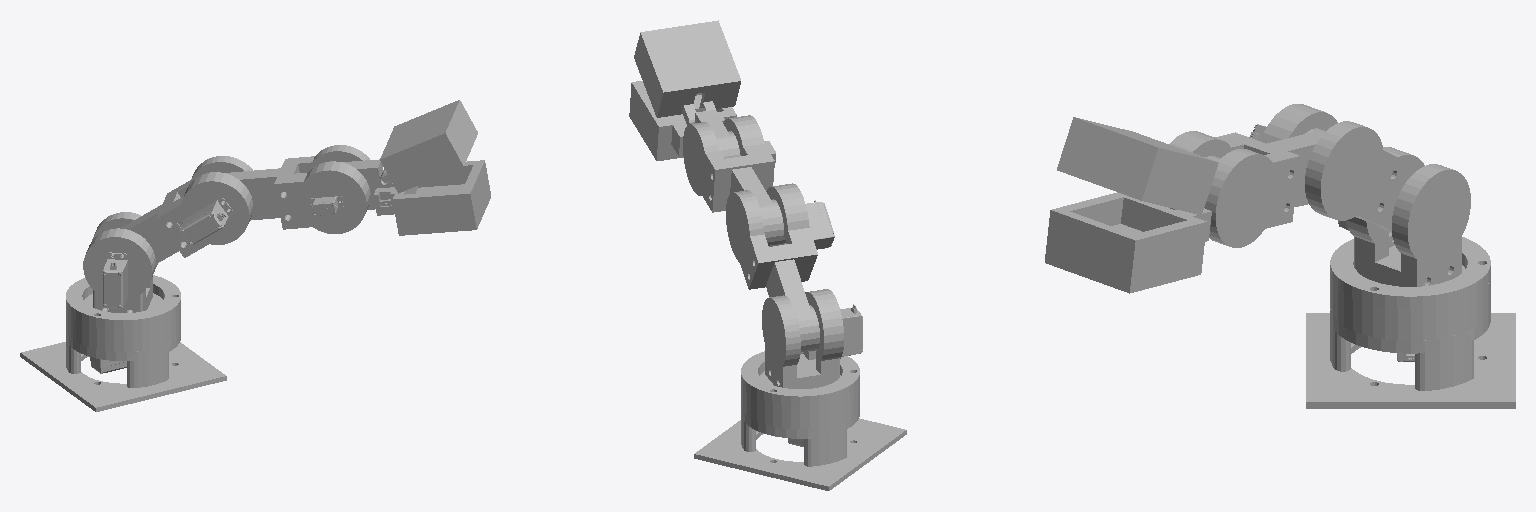
URDF robot description (Project):
<?xml version="1.0" encoding="utf-8" ?>
<!-- This URDF was automatically created by SolidWorks to URDF Exporter! Originally created by [author] ([email redacted]) 
     Commit Version: 1.6.0-4-g7f85cfe  Build Version: 1.6.7995.38578
     For more information, please see http://wiki.ros.org/sw_urdf_exporter -->
<robot name="Project">
    <link name="world" />
    <joint name="virtual_joint" type="fixed">
        <parent link="world" />
        <child link="base_link" />
    </joint>
    <link name="base_link">
        
<inertial>
            <origin xyz="0.062583 0.062483 0.13321" rpy="0 0 0" />
            <mass value="0.49045" />
            <inertia ixx="0.00075934" ixy="-2.6667E-06" ixz="-2.3889E-08" iyy="0.0013344" iyz="-2.6966E-15" izz="0.00075873" />
        </inertial>

        <visual>
            <origin xyz="0 0 0" rpy="0 0 0" />
            <geometry>
                <mesh filename="package://Project/meshes/base_link.STL" />
            </geometry>
            <material name="">
                <color rgba="0.75294 0.75294 0.75294 1" />
            </material>
        </visual>
        <collision>
            <origin xyz="0 0 0" rpy="0 0 0" />
            <geometry>
                <mesh filename="package://Project/meshes/base_link.STL" />
            </geometry>
        </collision>
    </link>
    <link name="Link1">
        
<inertial>
            <origin xyz="-0.0058004 0.043843 0.0069345" rpy="0 0 0" />
            <mass value="0.17436" />
            <inertia ixx="0.000183" ixy="1.9346E-05" ixz="-2.9916E-06" iyy="0.00011655" iyz="-2.3181E-05" izz="0.0001841" />
        </inertial>

        <visual>
            <origin xyz="0 0 0" rpy="0 0 0" />
            <geometry>
                <mesh filename="package://Project/meshes/Link1.STL" />
            </geometry>
            <material name="">
                <color rgba="0.75294 0.75294 0.75294 1" />
            </material>
        </visual>
        <collision>
            <origin xyz="0 0 0" rpy="0 0 0" />
            <geometry>
                <mesh filename="package://Project/meshes/Link1.STL" />
            </geometry>
        </collision>
    </link>
    <joint name="joint1" type="revolute">
        <origin xyz="0.063039 -0.13322 0.069861" rpy="1.5708 0 -0.010974" />
        <parent link="base_link" />
        <child link="Link1" />
        <axis xyz="0 1 0" />
        <limit lower="-1.57" upper="1.57" effort="1000" velocity="10" />
    </joint>
    <link name="link2">
        
<inertial>
            <origin xyz="0.051494401274804 0.0280604795459832 0.0547249223492152" rpy="0 0 0" />
            <mass value="0.150087546182137" />
            <inertia ixx="0.000204815122201082" ixy="-4.35606900573083E-05" ixz="-0.000104126628840069" iyy="0.000242460808468939" iyz="-5.74021223085673E-05" izz="0.000155330262210845" />
        </inertial>

        <visual>
            <origin xyz="0 0 0" rpy="0 0 0" />
            <geometry>
                <mesh filename="package://Project/meshes/link2.STL" />
            </geometry>
            <material name="">
                <color rgba="0.752941176470588 0.752941176470588 0.752941176470588 1" />
            </material>
        </visual>
        <collision>
            <origin xyz="0 0 0" rpy="0 0 0" />
            <geometry>
                <mesh filename="package://Project/meshes/link2.STL" />
            </geometry>
        </collision>
    </link>
    <joint name="joint2" type="revolute">
        <origin xyz="0 0.0795 0" rpy="-0.16182 0.01582 0.19448" />
        <parent link="Link1" />
        <child link="link2" />
        <axis xyz="0.64034 0 -0.76809" />
        <limit lower="-1.57" upper="1.57" effort="1000" velocity="10" />
    </joint>
    <link name="link3">
        
<inertial>
            <origin xyz="-0.00476318038871001 0.074849446227935 -0.00203016947462037" rpy="0 0 0" />
            <mass value="0.130303869784293" />
            <inertia ixx="0.00026871973384545" ixy="4.19854801617947E-05" ixz="-5.2338316445209E-06" iyy="5.31314299703242E-05" iyz="-2.81345733913792E-05" izz="0.000277166259506769" />
        </inertial>

        <visual>
            <origin xyz="0 0 0" rpy="0 0 0" />
            <geometry>
                <mesh filename="package://Project/meshes/link3.STL" />
            </geometry>
            <material name="">
                <color rgba="0.752941176470588 0.752941176470588 0.752941176470588 1" />
            </material>
        </visual>
        <collision>
            <origin xyz="0 0 0" rpy="0 0 0" />
            <geometry>
                <mesh filename="package://Project/meshes/link3.STL" />
            </geometry>
        </collision>
    </link>
    <joint name="joint3" type="revolute">
        <origin xyz="0.086273 0.042235 0.071924" rpy="0.87355 0.59791 -1.167" />
        <parent link="link2" />
        <child link="link3" />
        <axis xyz="0.64034 0 -0.76809" />
        <limit lower="-1.57" upper="1.57" effort="1000" velocity="10" />
    </joint>
    <link name="link4">
        
<inertial>
            <origin xyz="0.0548157398392086 -0.0273785237972813 0.0380020224325275" rpy="0 0 0" />
            <mass value="0.140077664719032" />
            <inertia ixx="0.000216463472889513" ixy="8.27665845459747E-05" ixz="-0.000111272702923855" iyy="0.000345872989141308" iyz="6.92045015616449E-05" izz="0.000256530152085106" />
        </inertial>

        <visual>
            <origin xyz="0 0 0" rpy="0 0 0" />
            <geometry>
                <mesh filename="package://Project/meshes/link4.STL" />
            </geometry>
            <material name="">
                <color rgba="0.752941176470588 0.752941176470588 0.752941176470588 1" />
            </material>
        </visual>
        <collision>
            <origin xyz="0 0 0" rpy="0 0 0" />
            <geometry>
                <mesh filename="package://Project/meshes/link4.STL" />
            </geometry>
        </collision>
    </link>
    <joint name="joint4" type="revolute">
        <origin xyz="-0.0060927 0.11974 -0.0050793" rpy="-0.89787 0.64752 1.2168" />
        <parent link="link3" />
        <child link="link4" />
        <axis xyz="0.64034 0 -0.76809" />
        <limit lower="-1.57" upper="1.57" effort="1000" velocity="10" />
    </joint>
    <link name="link5">
        
<inertial>
            <origin xyz="0.0406989665115545 0.0305863150536057 0.0260604660706744" rpy="0 0 0" />
            <mass value="0.0629406277554816" />
            <inertia ixx="5.43974028049776E-05" ixy="-7.10618358387144E-06" ixz="3.23725871457604E-06" iyy="8.29079946768035E-05" iyz="-6.03015468519842E-06" izz="5.29677790061506E-05" />
        </inertial>

        <visual>
            <origin xyz="0 0 0" rpy="0 0 0" />
            <geometry>
                <mesh filename="package://Project/meshes/link5.STL" />
            </geometry>
            <material name="">
                <color rgba="0.752941176470588 0.752941176470588 0.752941176470588 1" />
            </material>
        </visual>
        <collision>
            <origin xyz="0 0 0" rpy="0 0 0" />
            <geometry>
                <mesh filename="package://Project/meshes/link5.STL" />
            </geometry>
        </collision>
    </link>
    <joint name="joint5" type="revolute">
        <origin xyz="0.039754 0.00020207 0.033142" rpy="0.099835 0.0059943 -0.11984" />
        <parent link="link4" />
        <child link="link5" />
        <axis xyz="0.64034 0 -0.76809" />
        <limit lower="-1.57" upper="1.57" effort="1000" velocity="10" />
    </joint>
    
<transmission name="trans_joint1">
        <type>transmission_interface/SimpleTransmission</type>
        <joint name="joint1">
            <hardwareInterface>hardware_interface/PositionJointInterface</hardwareInterface>
        </joint>
        <actuator name="joint1_motor">
            <hardwareInterface>hardware_interface/PositionJointInterface</hardwareInterface>
            <mechanicalReduction>1</mechanicalReduction>
        </actuator>
    </transmission>
    <transmission name="trans_joint2">
        <type>transmission_interface/SimpleTransmission</type>
        <joint name="joint2">
            <hardwareInterface>hardware_interface/PositionJointInterface</hardwareInterface>
        </joint>
        <actuator name="joint2_motor">
            <hardwareInterface>hardware_interface/PositionJointInterface</hardwareInterface>
            <mechanicalReduction>1</mechanicalReduction>
        </actuator>
    </transmission>
    <transmission name="trans_joint3">
        <type>transmission_interface/SimpleTransmission</type>
        <joint name="joint3">
            <hardwareInterface>hardware_interface/PositionJointInterface</hardwareInterface>
        </joint>
        <actuator name="joint3_motor">
            <hardwareInterface>hardware_interface/PositionJointInterface</hardwareInterface>
            <mechanicalReduction>1</mechanicalReduction>
        </actuator>
    </transmission>
    <transmission name="trans_joint4">
        <type>transmission_interface/SimpleTransmission</type>
        <joint name="joint4">
            <hardwareInterface>hardware_interface/PositionJointInterface</hardwareInterface>
        </joint>
        <actuator name="joint4_motor">
            <hardwareInterface>hardware_interface/PositionJointInterface</hardwareInterface>
            <mechanicalReduction>1</mechanicalReduction>
        </actuator>
    </transmission>
    <transmission name="trans_joint5">
        <type>transmission_interface/SimpleTransmission</type>
        <joint name="joint5">
            <hardwareInterface>hardware_interface/PositionJointInterface</hardwareInterface>
        </joint>
        <actuator name="joint5_motor">
            <hardwareInterface>hardware_interface/PositionJointInterface</hardwareInterface>
            <mechanicalReduction>1</mechanicalReduction>
        </actuator>
    </transmission>
    
    <gazebo>
        <plugin name="gazebo_ros_control" filename="libgazebo_ros_control.so">
            <robotNamespace>/</robotNamespace>
            <robotSimType>gazebo_ros_control/DefaultRobotHWSim</robotSimType>
            <legacyModeNS>true</legacyModeNS>
        </plugin>
    </gazebo>
</robot>

--- Facts derived from the render (not from the file) ---
3 views of the same robot in one strip: view 1: azimuth 30°, elevation 25°; view 2: azimuth 150°, elevation 25°; view 3: azimuth 270°, elevation 25° (orthographic).
Robot: Project — 7 links, 6 joints (5 revolute, 1 fixed); root link world; default pose: all joints at 0.
Links seen in each view (by area): view 1: base_link, link3, link2, link4, Link1, link5; view 2: base_link, link2, link5, Link1, link3, link4; view 3: base_link, link4, Link1, link3, link2, link5.
Boxes of the visible links, <box> form: base_link: <box>20,275,226,411</box>; link3: <box>226,145,370,233</box>; link2: <box>120,156,252,263</box>; link4: <box>343,159,490,235</box>; Link1: <box>83,212,162,312</box>; link5: <box>379,100,477,193</box>; base_link: <box>694,351,906,490</box>; link2: <box>726,183,834,352</box>; link5: <box>634,20,740,124</box>; Link1: <box>760,289,862,388</box>; link3: <box>683,115,785,246</box>; link4: <box>629,81,740,160</box>; base_link: <box>1306,237,1515,408</box>; link4: <box>1045,155,1220,293</box>; Link1: <box>1338,147,1470,286</box>; link3: <box>1169,128,1325,247</box>; link2: <box>1249,104,1414,232</box>; link5: <box>1057,117,1218,215</box>.
Bounding box of the posed robot: 0.3814 × 0.3366 × 0.3023 m (x, y, z).
6 mesh visuals loaded from 6 distinct referenced files (6 binary STL).